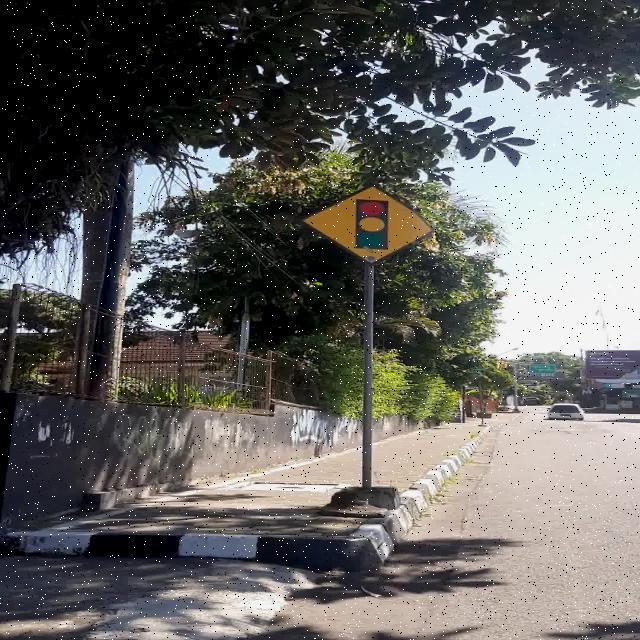Lampu Lalu Lintas: (302, 185, 434, 265)
